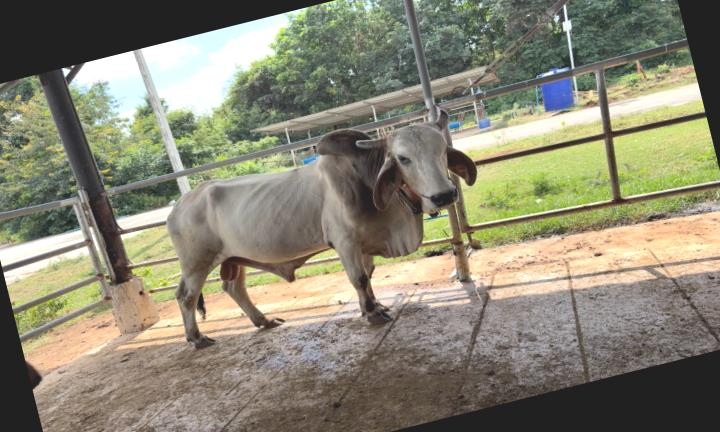Brahman: (166, 110, 476, 348)
